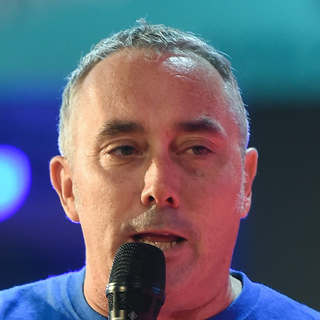eye: (98, 138, 147, 164), (167, 138, 217, 163)
